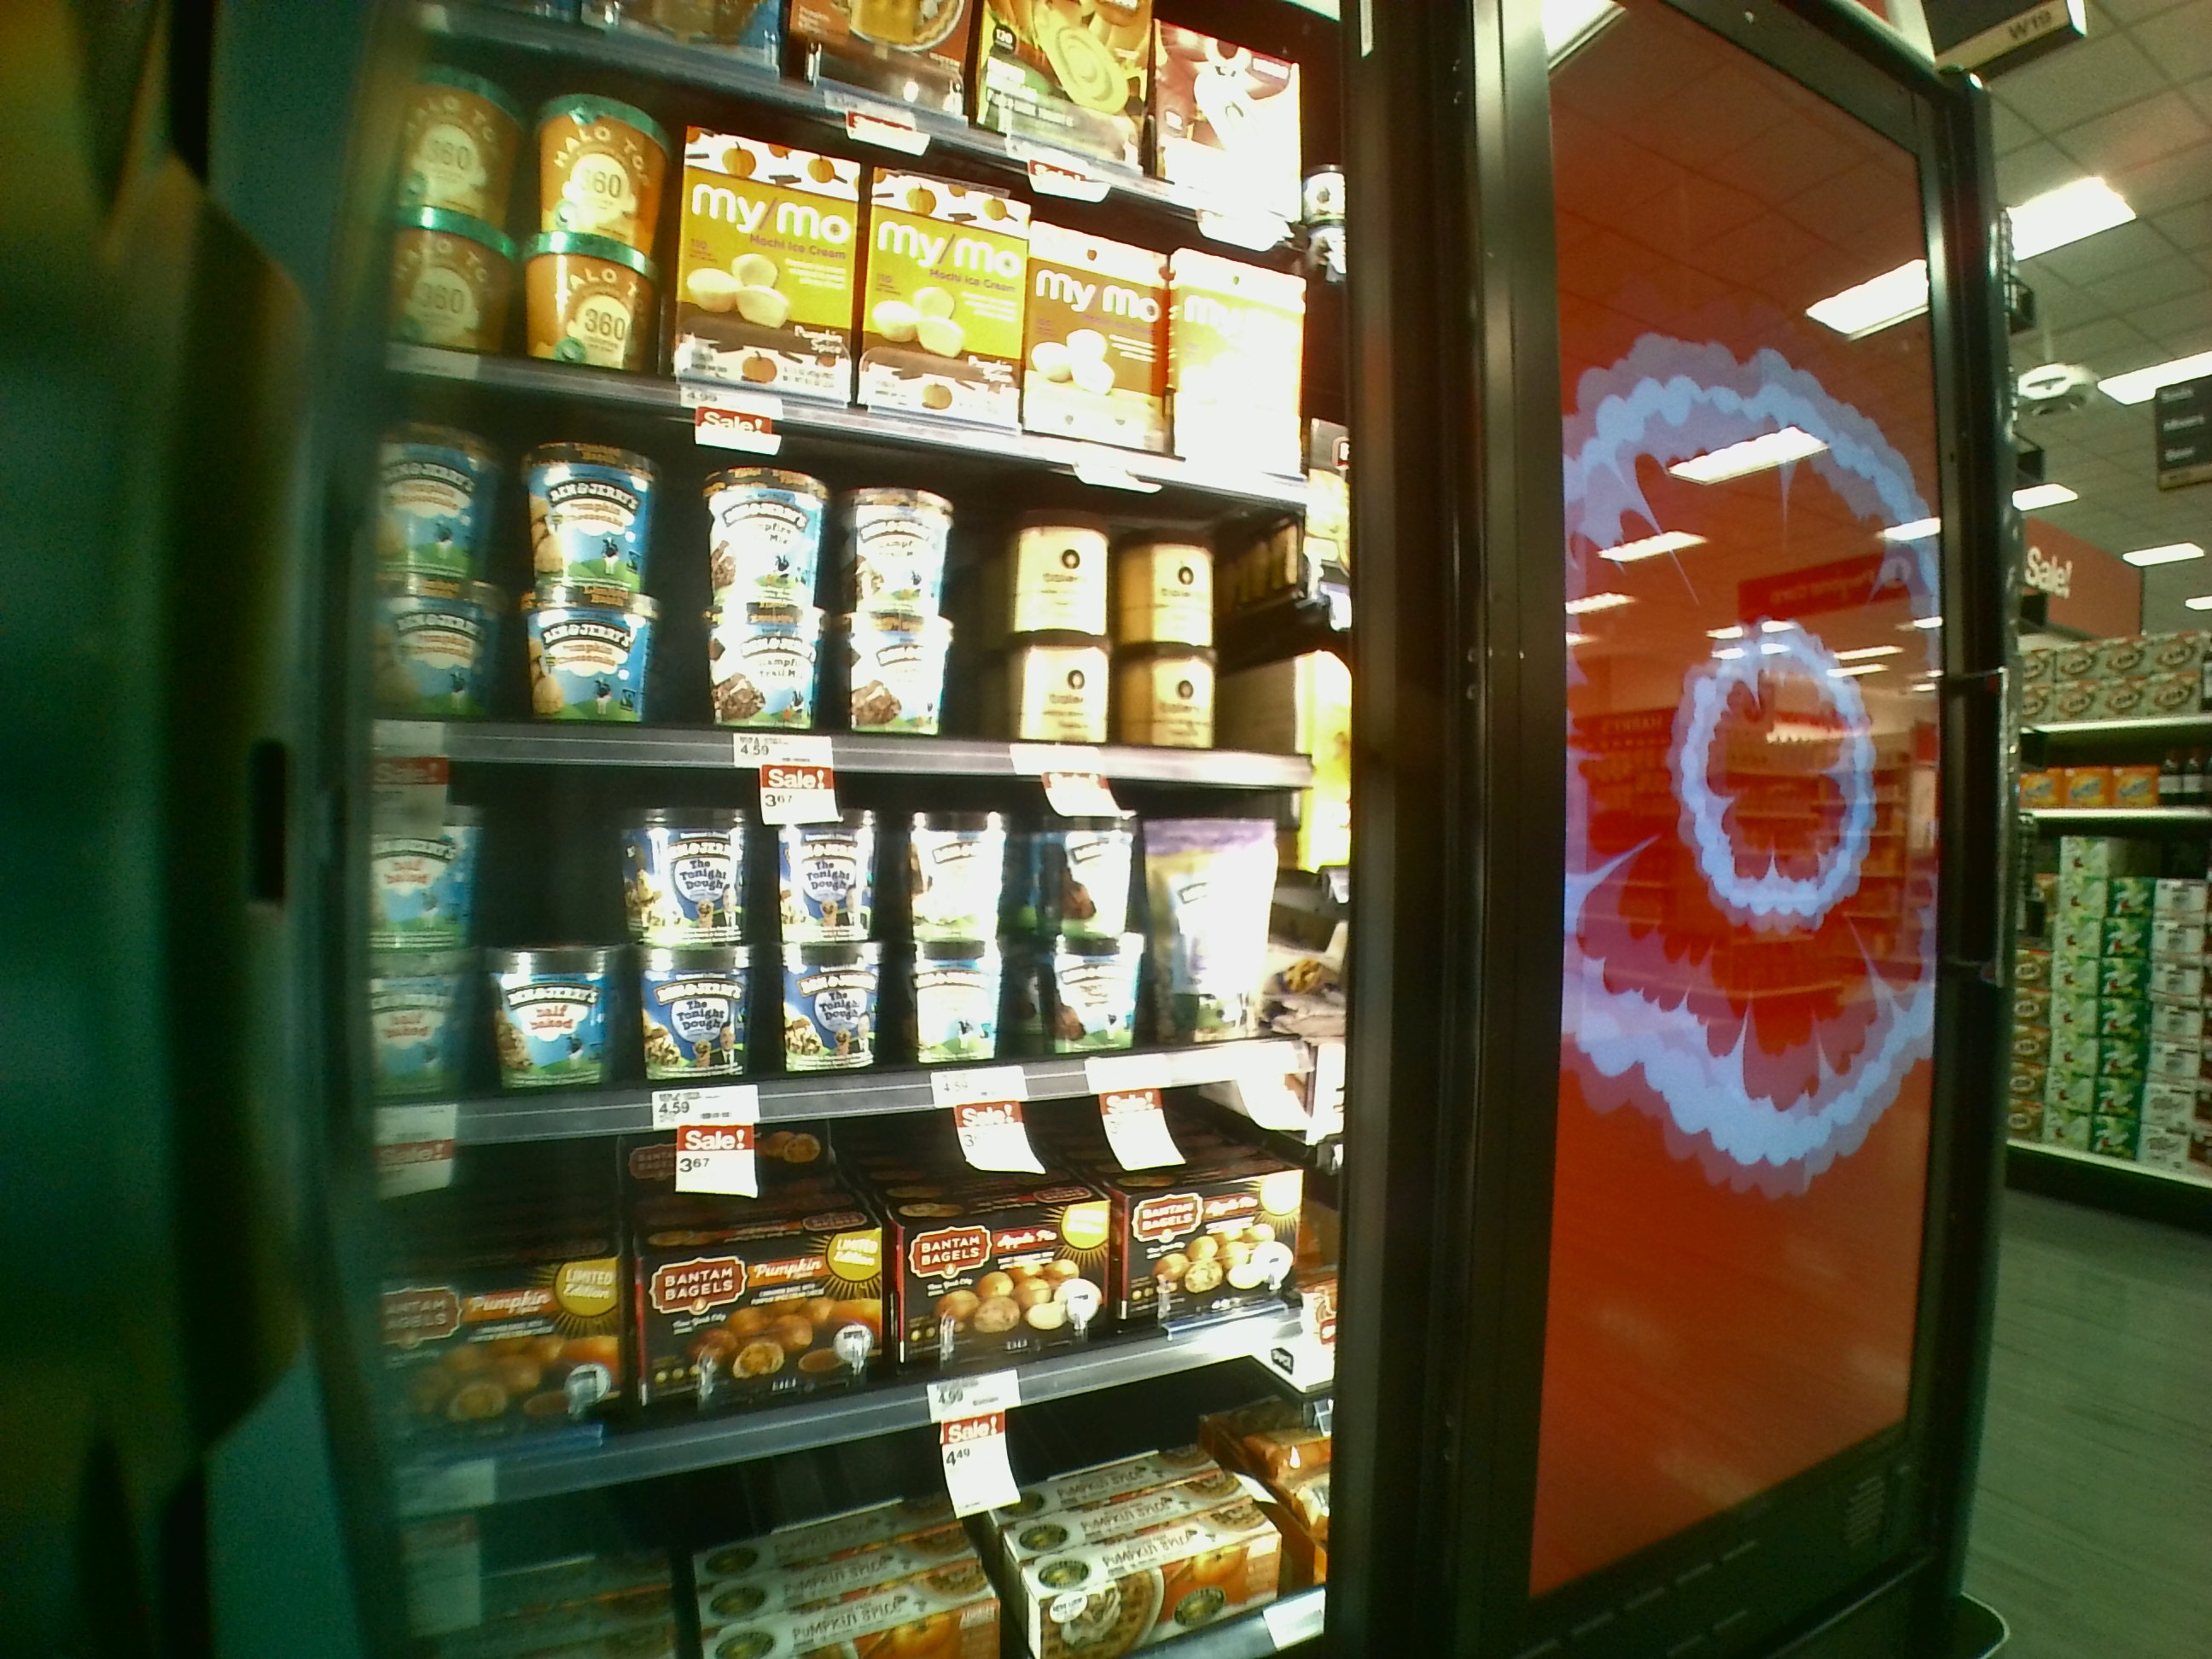shelf: (324, 735, 1346, 1133), (359, 1112, 1383, 1492), (366, 375, 1336, 775)
